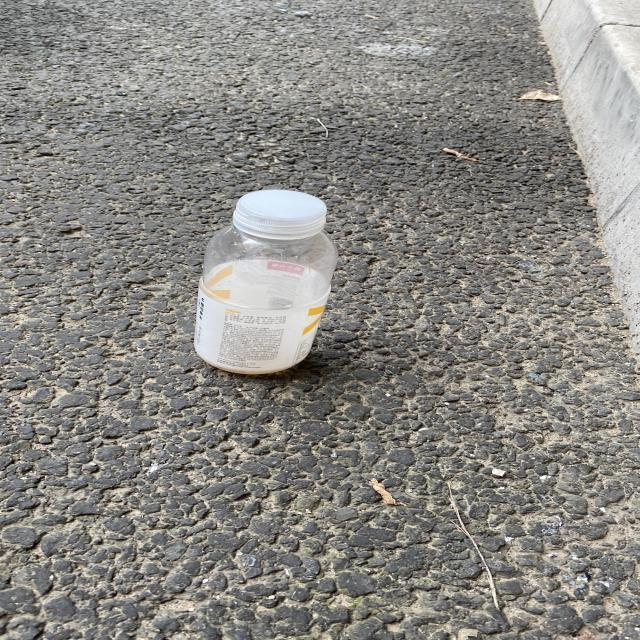Pet_Bottle: (168, 174, 346, 398)
